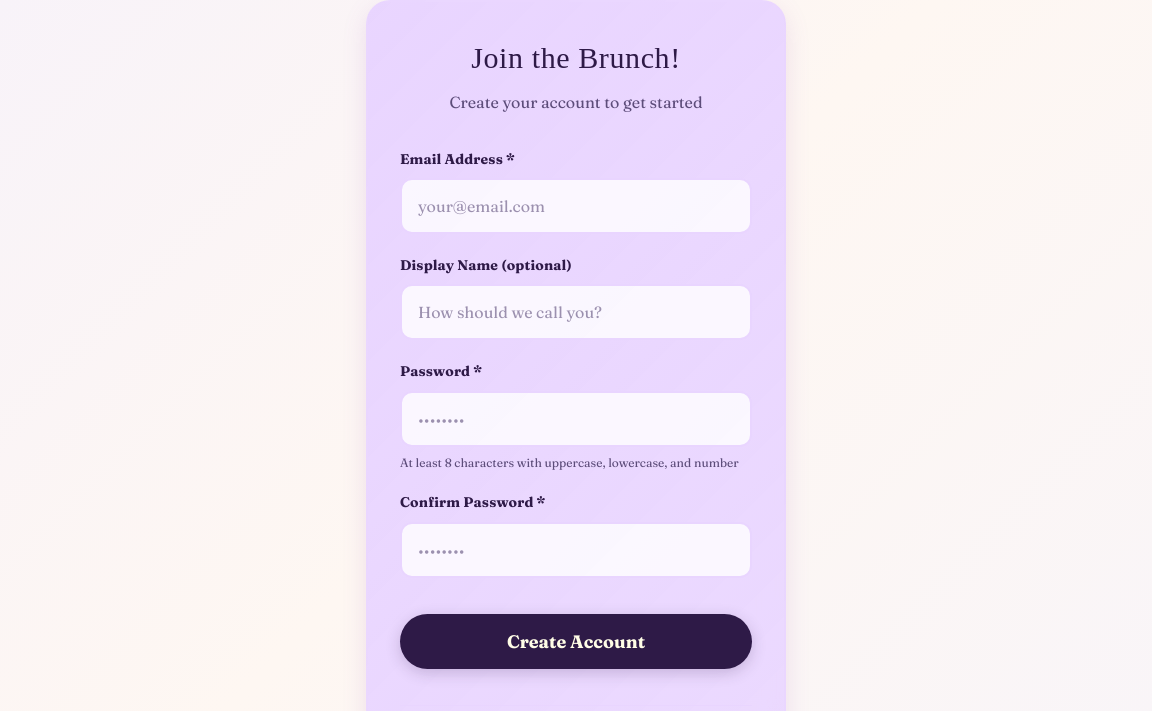
Scenario: SignUpForm › Password Validation › should show error for password without lowercase letter
This screenshot has width=1152, height=711.
Type "test@example.com" into the field labelled "Email Address *" at [576, 206], box [400,178,752,234]
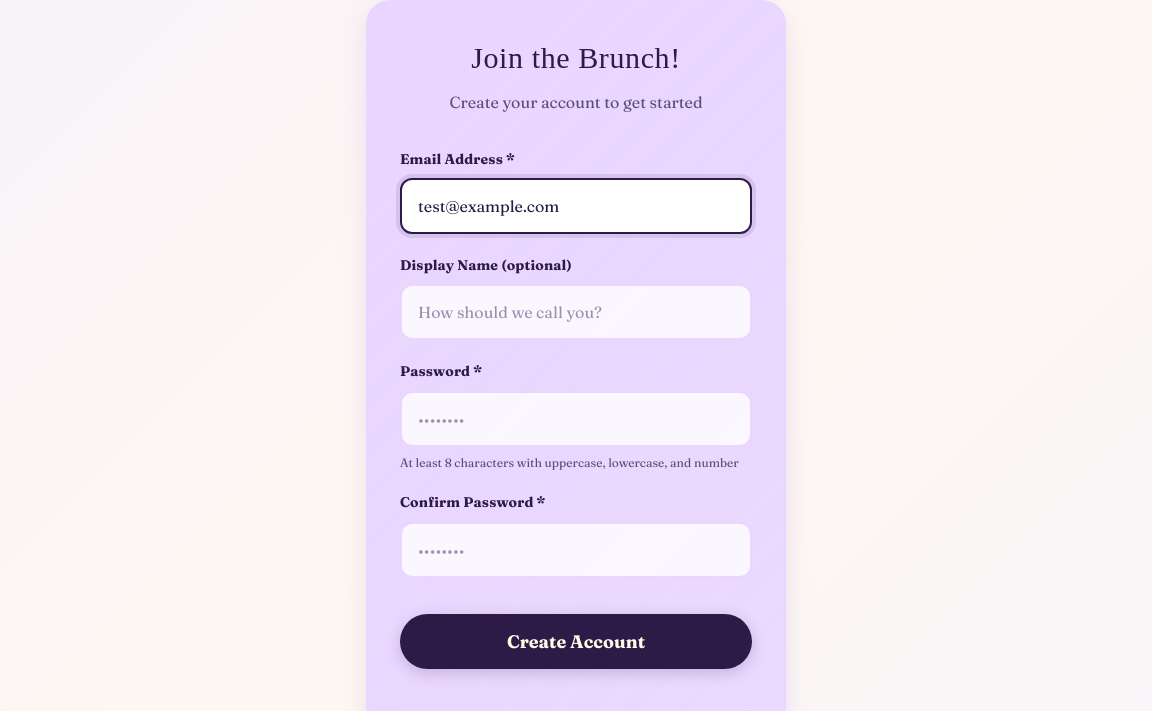
Type "PASSWORD123" into the password field labelled "Password *" at [576, 419], box [400,391,752,447]
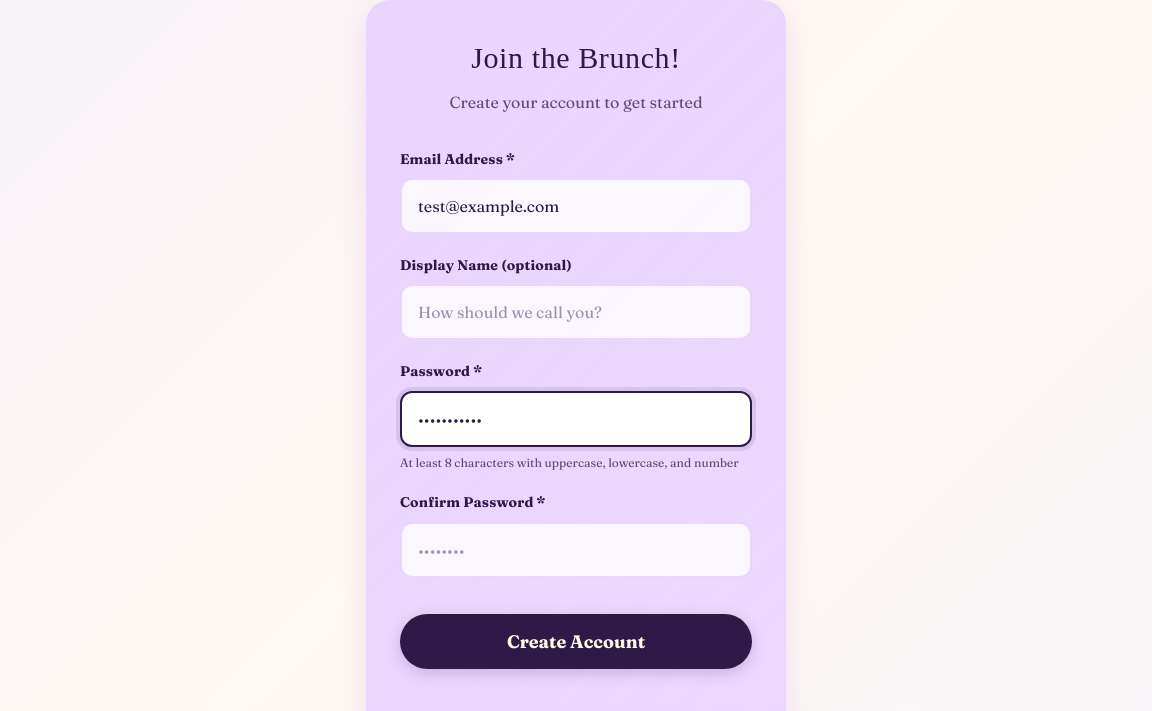
Type "PASSWORD123" into the password field labelled "Confirm Password *" at [576, 550], box [400,522,752,578]
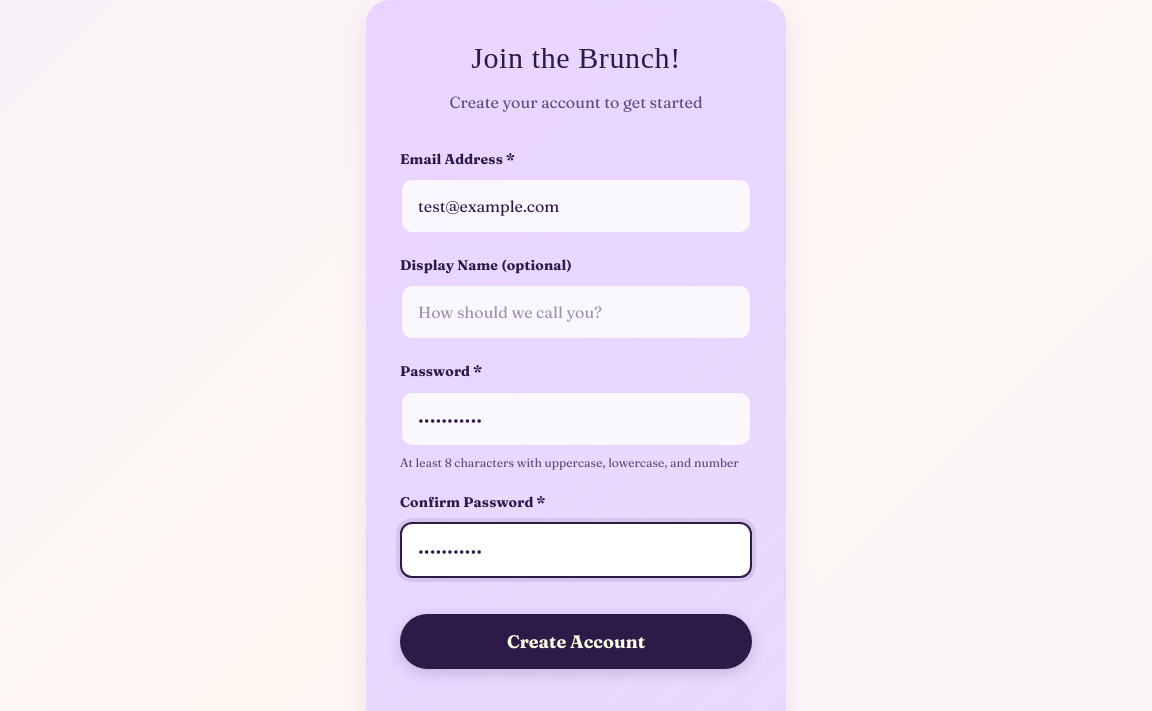
Click the button "Create Account" at [576, 641], box [400,614,752,669]
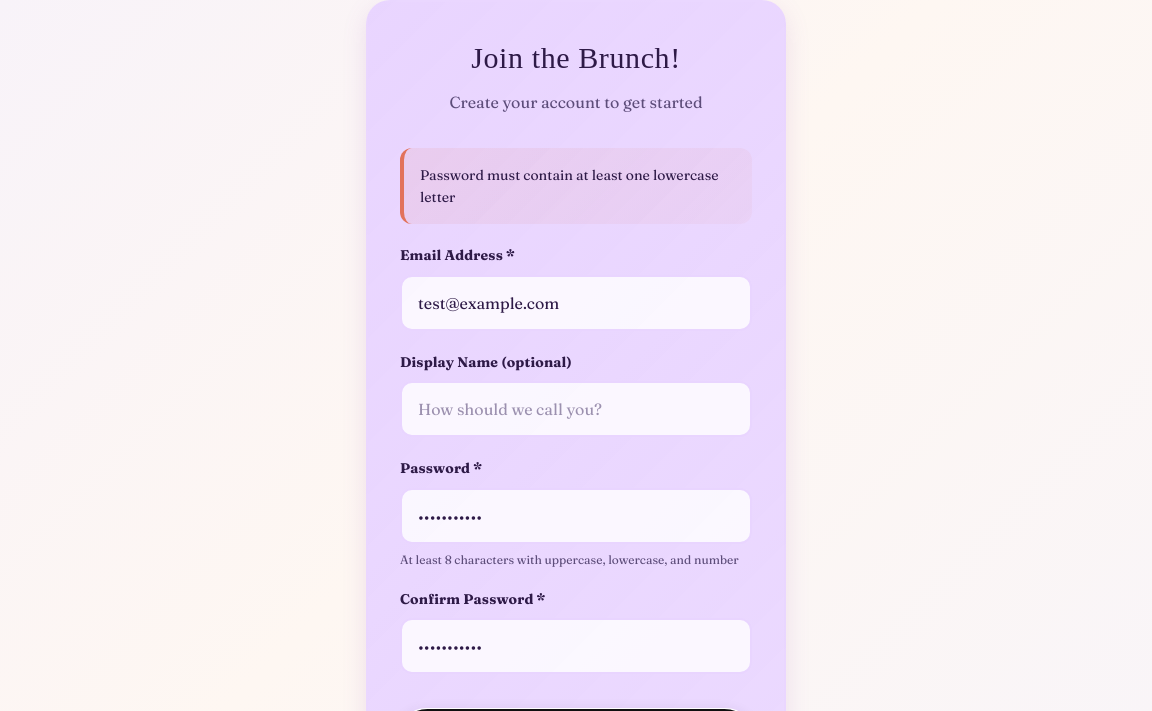
Expected: the text "Password must contain at least one lowercase letter" is shown, [400,148,752,224]
